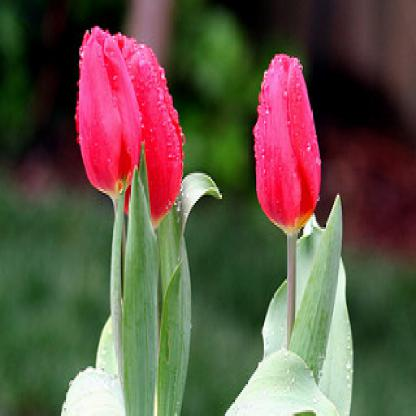TULIP: (244, 37, 348, 301), (82, 29, 194, 242)
